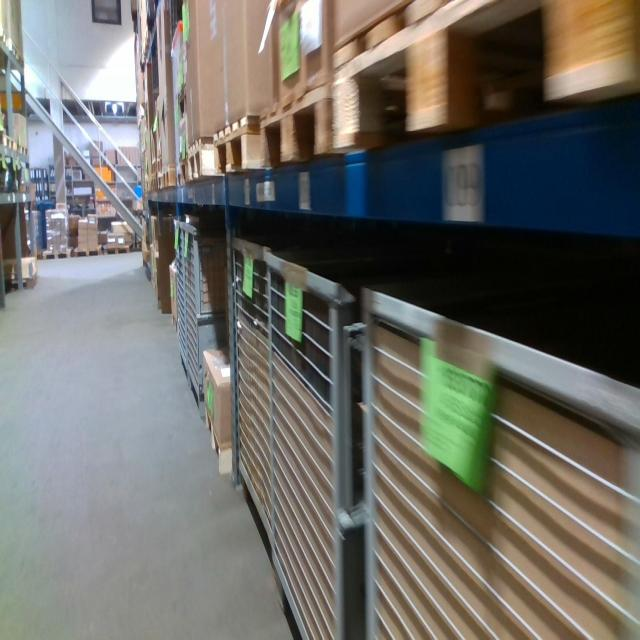pallet: (336, 4, 637, 152), (261, 77, 336, 174), (214, 112, 262, 184), (204, 405, 231, 475), (188, 134, 215, 185), (43, 245, 71, 261), (162, 164, 177, 193), (177, 83, 188, 122), (103, 243, 131, 258), (74, 244, 102, 259), (2, 131, 16, 153), (181, 153, 188, 190), (11, 49, 26, 66), (157, 172, 164, 193), (176, 166, 181, 190), (156, 157, 165, 170), (18, 147, 27, 156)
stillage: (358, 281, 640, 637), (264, 242, 364, 637), (228, 224, 272, 559), (181, 218, 237, 424), (170, 212, 188, 383)
